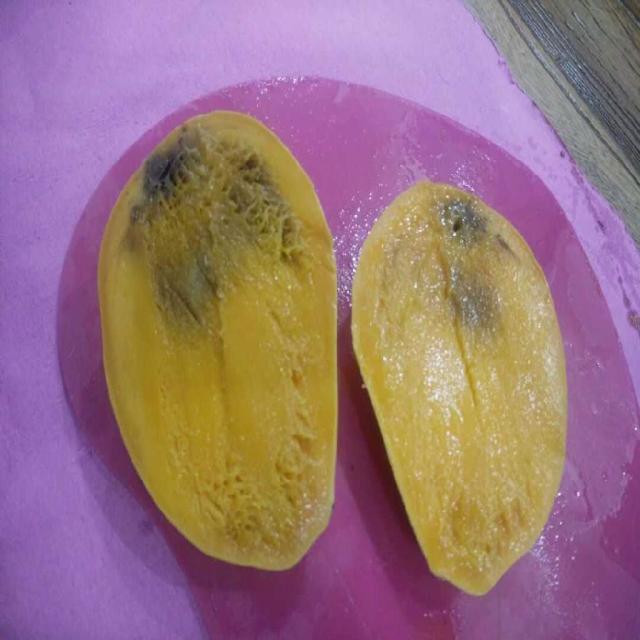Wet Waste: (94, 111, 340, 574), (350, 178, 569, 596)
